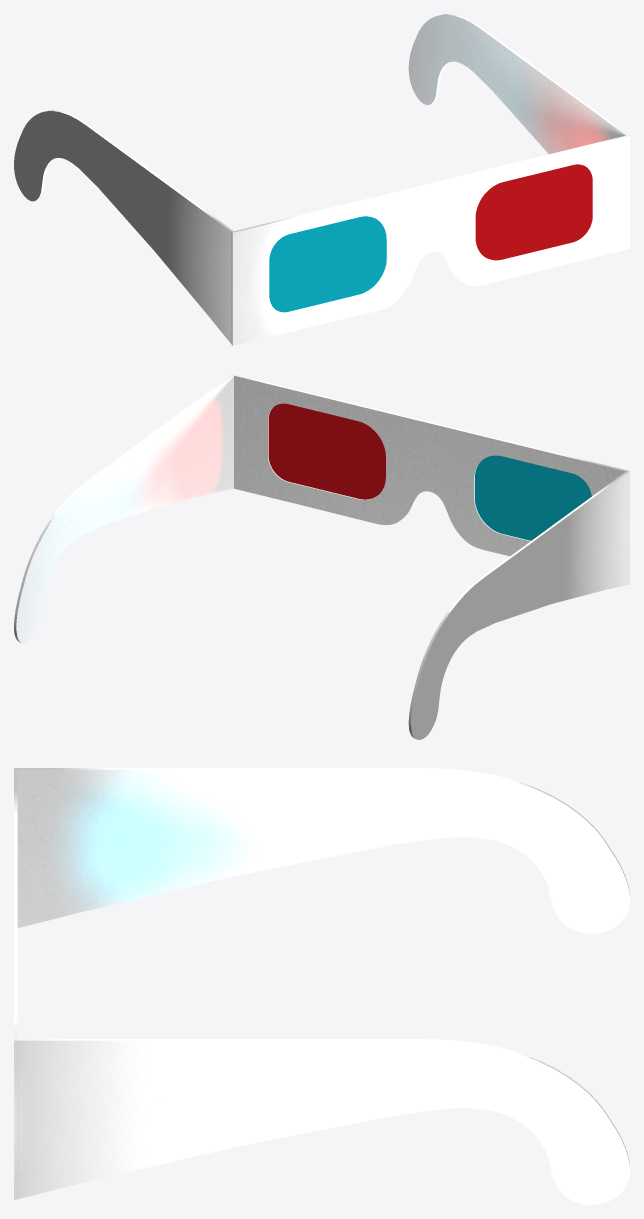
File: new_3d-anaglyph_v08.gltf
3 renders of one model, top to bottom at view 1: azimuth 30°, elevation 25°; view 2: azimuth 150°, elevation 25°; view 3: azimuth 270°, elevation 25°, orthographic. The views are drawn at different scales.
Parts seen in each view (by area): view 1: glasses.1, cyan, magenta; view 2: glasses.1, magenta, cyan; view 3: glasses.1.
Boxes of the visible parts, bbox=[...] form: glasses.1: bbox=[14, 14, 629, 345]; cyan: bbox=[269, 216, 386, 312]; magenta: bbox=[475, 164, 592, 260]; glasses.1: bbox=[14, 374, 629, 739]; magenta: bbox=[268, 403, 385, 499]; cyan: bbox=[475, 455, 591, 540]; glasses.1: bbox=[14, 768, 629, 1204].
Size of what is drawn, in the model's own units: 5.05 by 1.42 by 4.83.
Materials: 3 (2 with a texture image).
